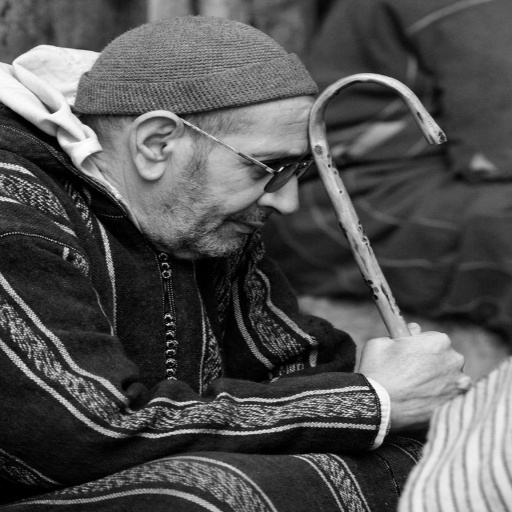hand: (359, 323, 486, 419)
